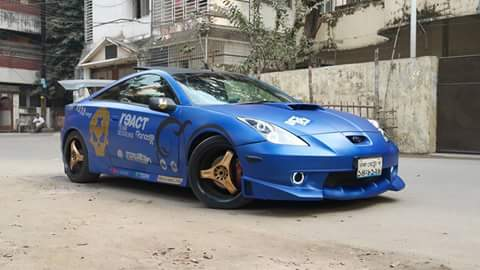registration_plate: (356, 156, 382, 178)
